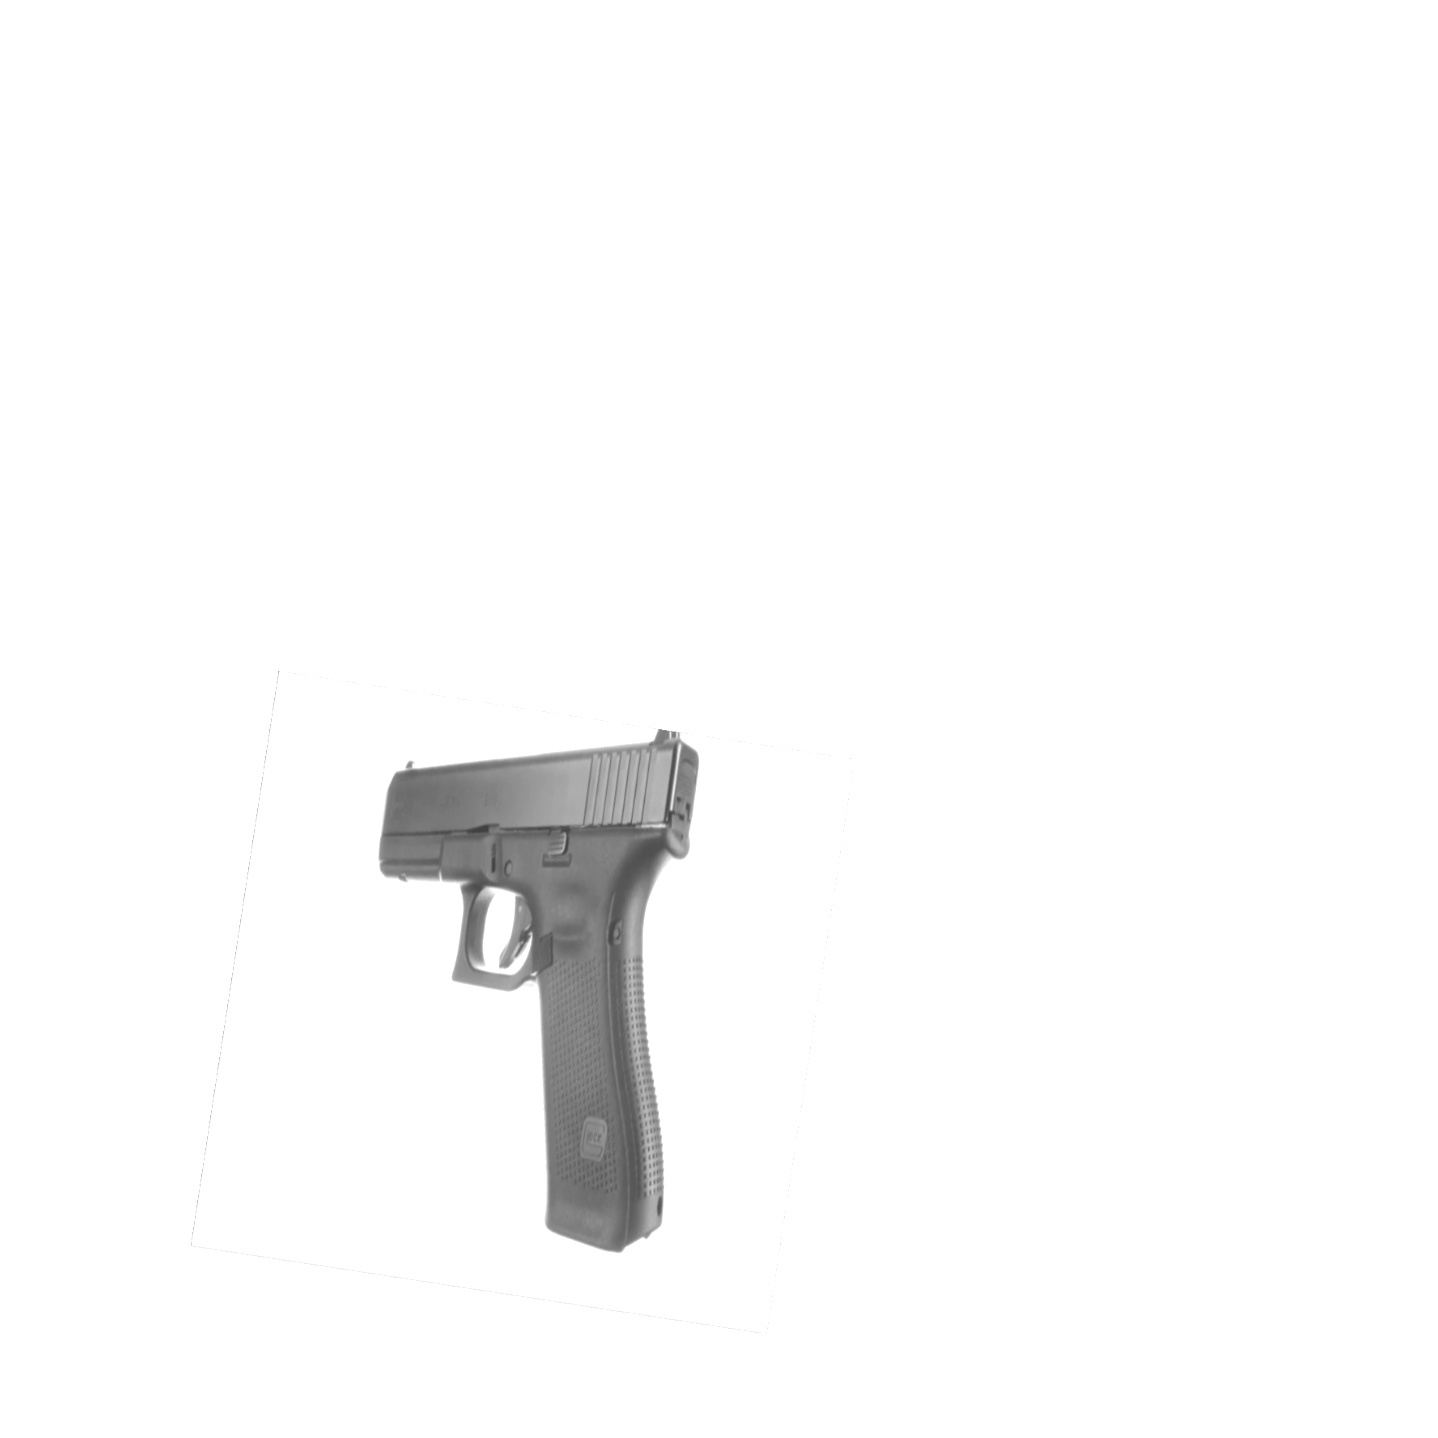gun: (377, 726, 714, 1256)
